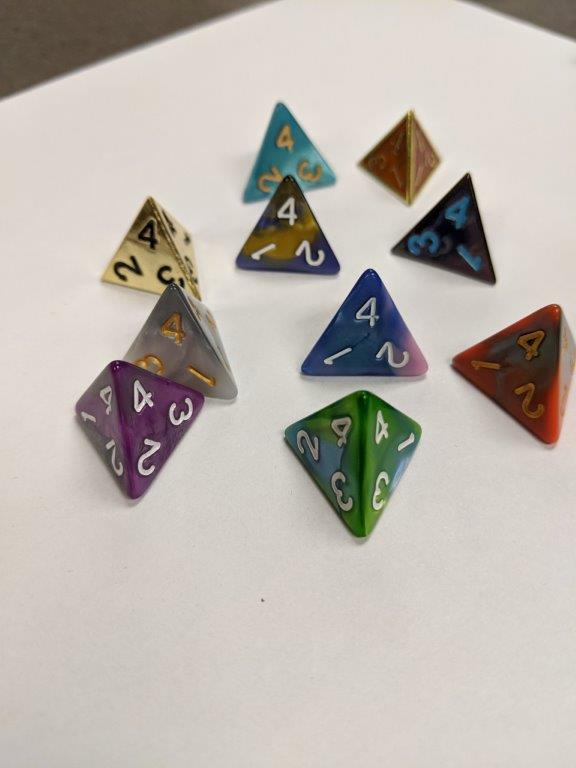d4-4: (283, 387, 422, 540), (444, 300, 576, 449), (72, 356, 203, 505), (292, 269, 431, 379), (123, 282, 241, 407), (391, 172, 499, 290), (233, 172, 343, 279), (99, 195, 202, 299), (242, 101, 342, 200), (358, 108, 441, 204)
